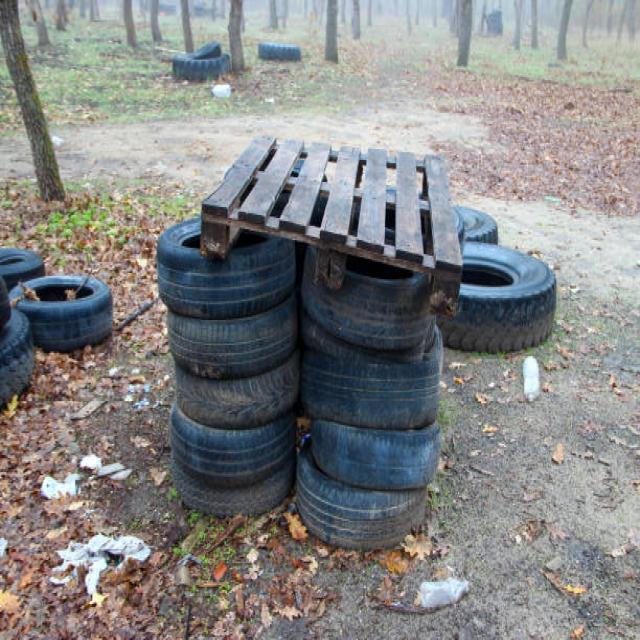artificial_container: (522, 354, 540, 402)
tire: (299, 245, 435, 356), (155, 215, 296, 317), (435, 240, 556, 353), (8, 273, 113, 351), (385, 202, 498, 245), (0, 246, 45, 290), (453, 204, 498, 245), (172, 52, 230, 80), (257, 40, 301, 60)
